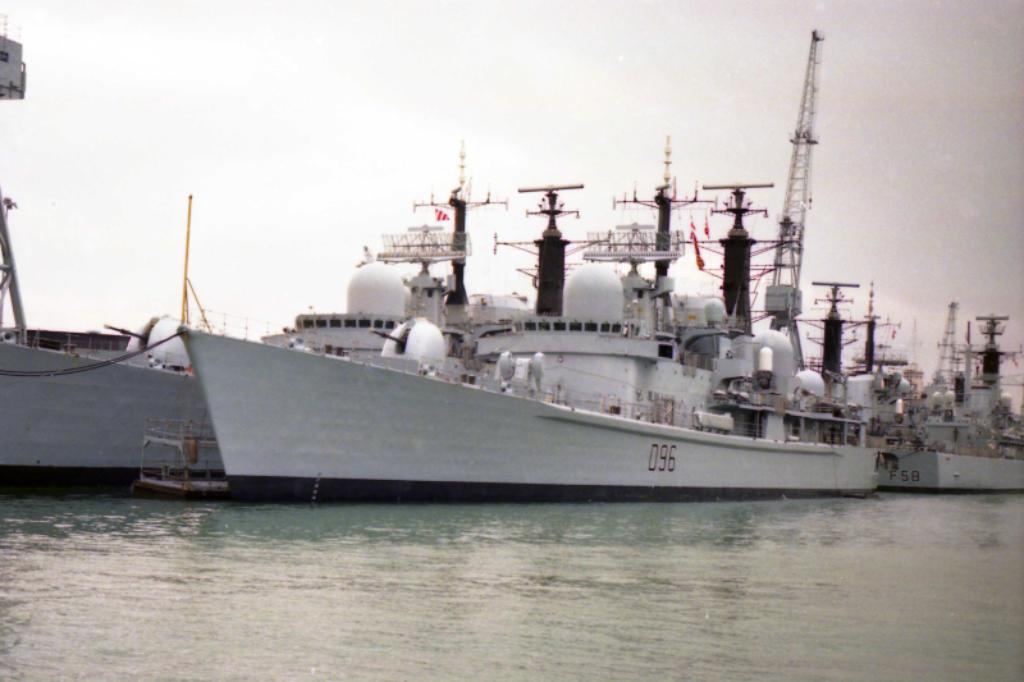Warship: (174, 136, 882, 508), (0, 166, 494, 484), (884, 295, 1024, 496)
